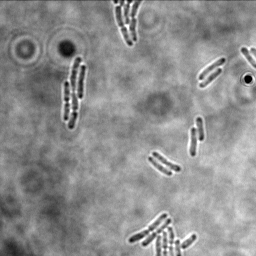Dividing: (151, 150, 182, 174)
Microcolony: (127, 212, 198, 256), (61, 56, 87, 132), (112, 1, 143, 47)
Rod: (198, 56, 226, 80), (146, 155, 174, 177), (198, 67, 223, 88), (188, 126, 199, 158), (194, 116, 206, 142)
